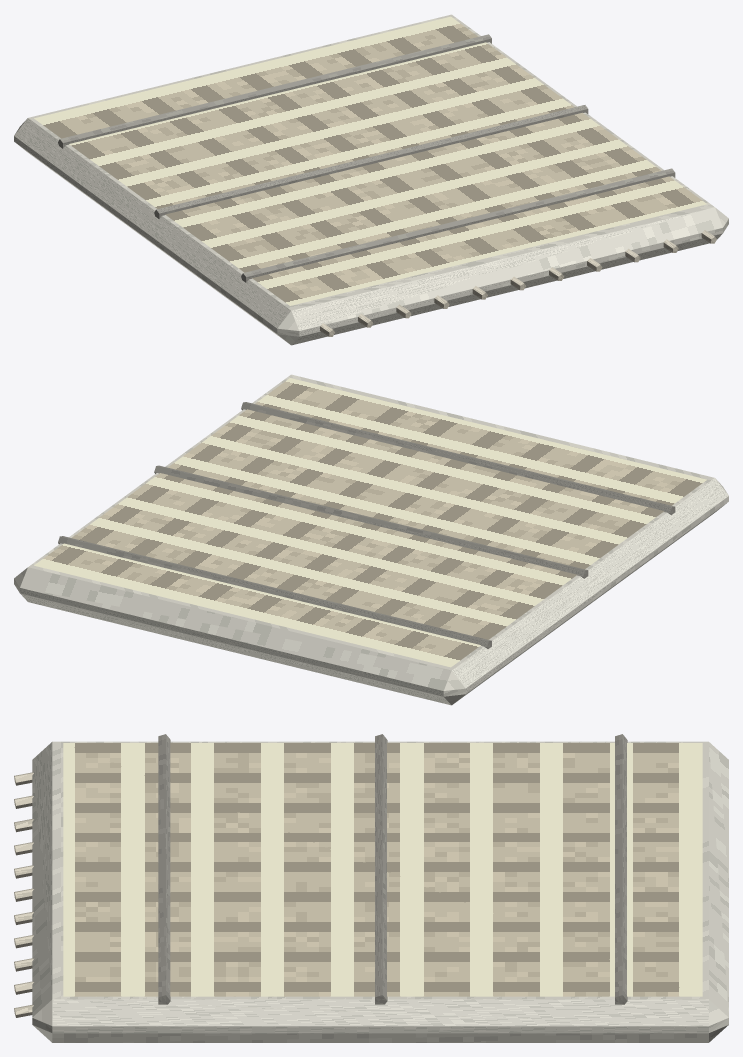
The model's file is keffiyeh.glb.
3 views of the same model, one above another, from view 1: azimuth 30°, elevation 25°; view 2: azimuth 150°, elevation 25°; view 3: azimuth 270°, elevation 25° (orthographic). The views are drawn at different scales.
Visible parts, largest first — view 1: block_woven check, block_folded textile, block_sewn fold 0 (×3); view 2: block_woven check, block_folded textile, block_sewn fold 0 (×3); view 3: block_woven check, block_folded textile, block_sewn fold 0 (×3).
Boxes of the visible parts, x1,y1,x2,y2 form: block_woven check: (34, 16, 706, 305); block_folded textile: (14, 14, 728, 345); block_sewn fold 0 (×3): (58, 34, 675, 282); block_woven check: (34, 378, 706, 667); block_folded textile: (14, 374, 728, 705); block_sewn fold 0 (×3): (58, 402, 675, 648); block_woven check: (63, 743, 702, 996); block_folded textile: (32, 741, 728, 1042); block_sewn fold 0 (×3): (158, 734, 627, 1004).
Bounding box in the file's own units: 0.2555 × 0.0215 × 0.2809.
1 material, 1 textured.
